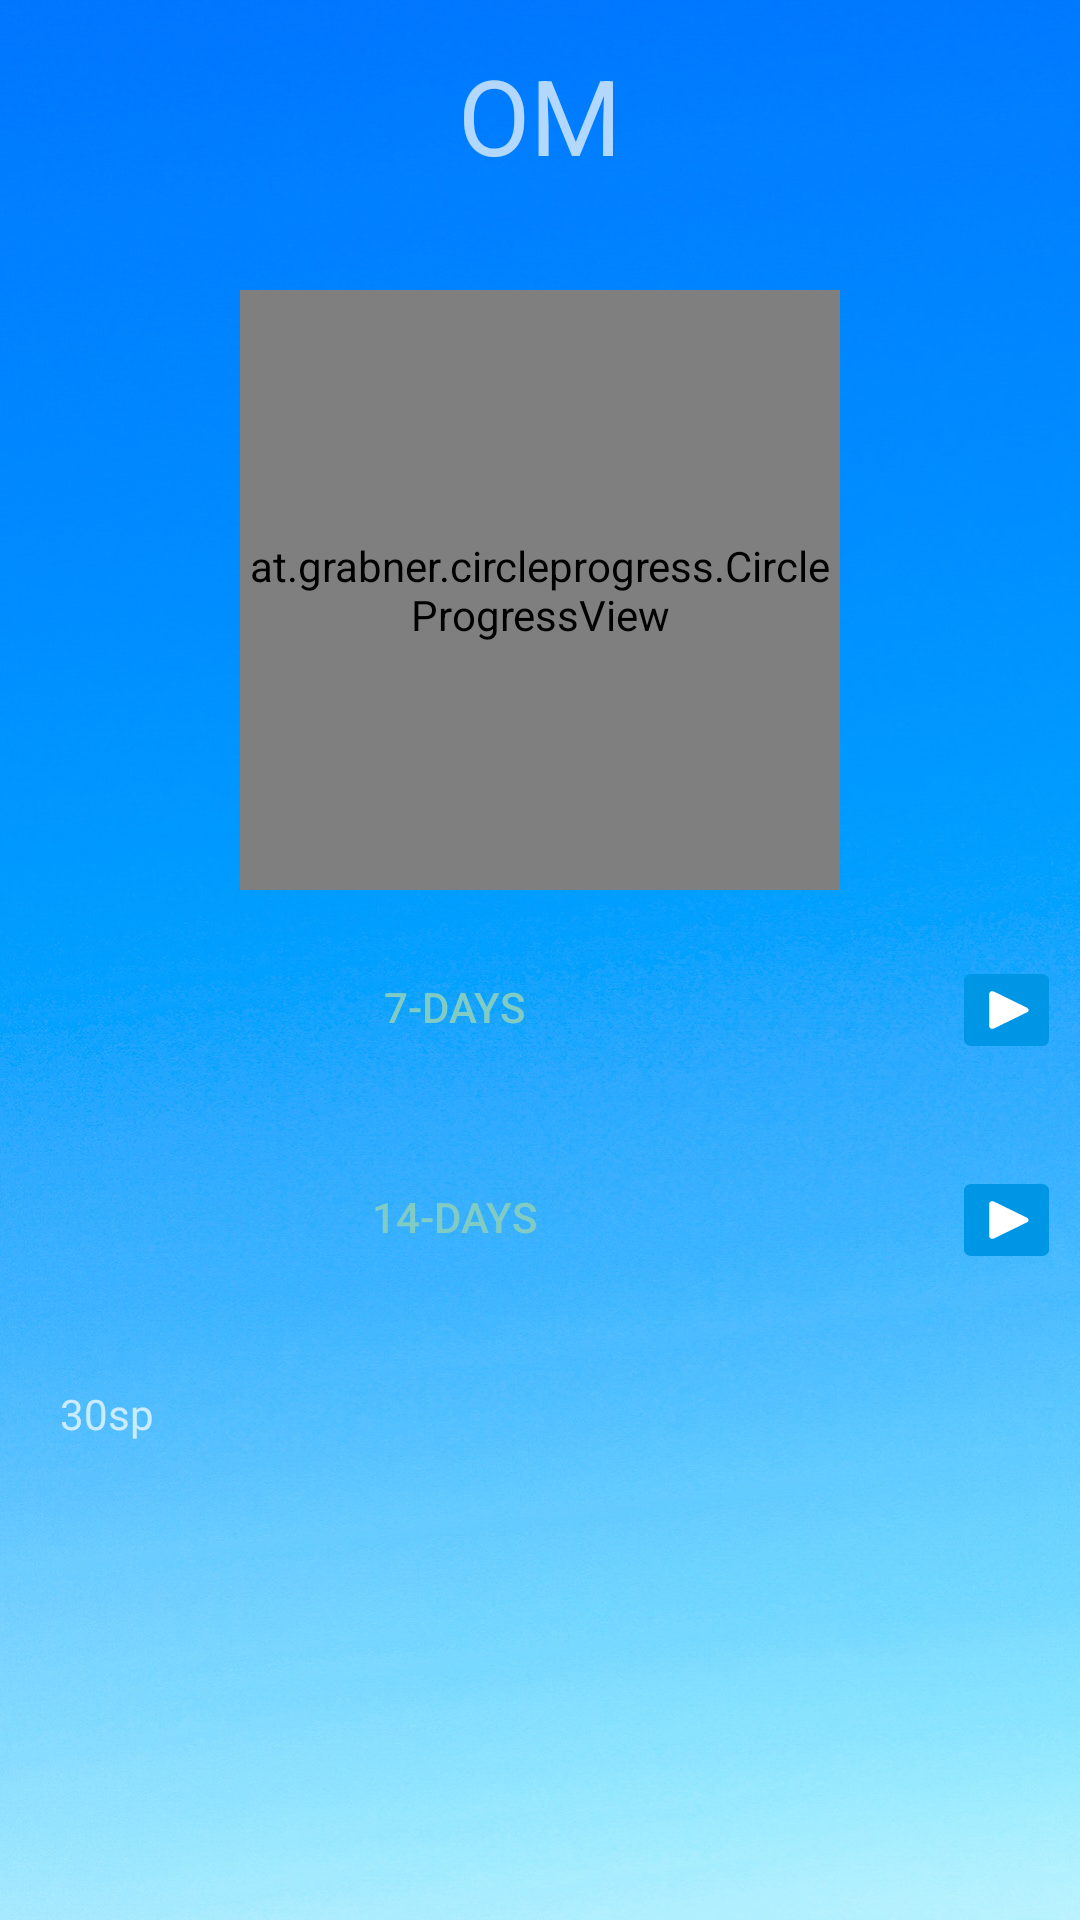

Point at icon controls on the screen. Image size 1080px×1920px, points as (x=x, y=y).
play: (x=1006, y=1010), (x=1006, y=1220)
